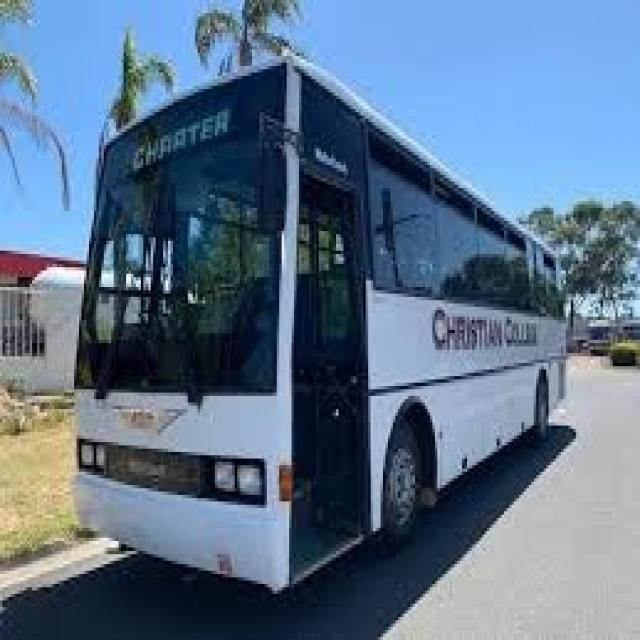bus: (41, 19, 592, 606)
